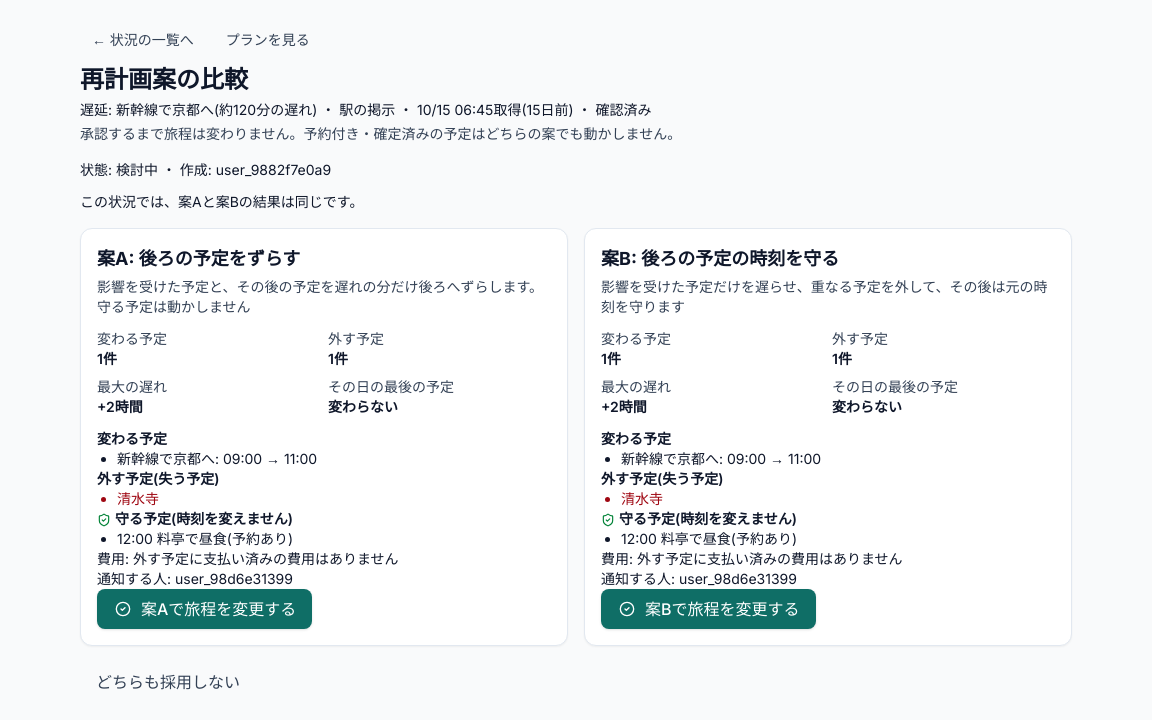
Test case: ReplanPage (Gate P10) › 適用で409(replan_stale)なら理由を示して読み直す。同じ結果の案はその旨を示す
Check: the text "この状況では、案Aと案Bの結果は同じです。" is shown, box [80, 193, 363, 210]
Click the button "案Aで旅程を変更する" at (205, 609), box [97, 589, 312, 629]
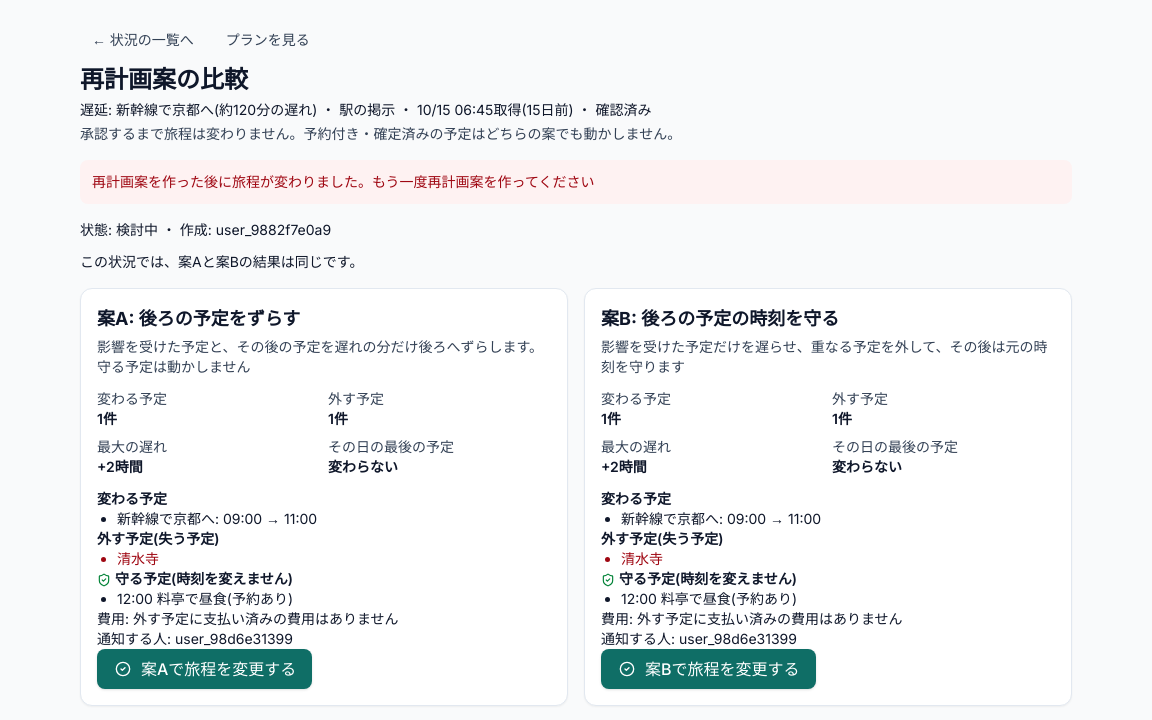
Check: the message shows "もう一度再計画案を作ってください", box [92, 173, 594, 190]
